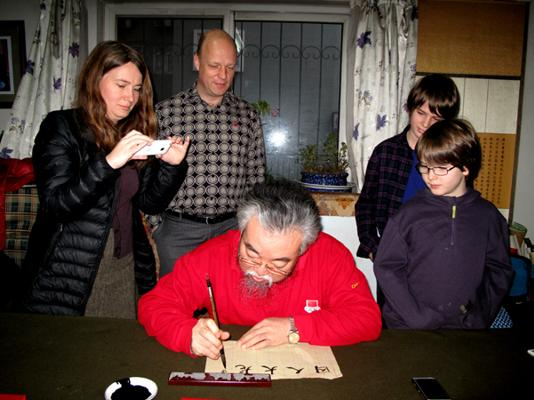person: (138, 178, 383, 363)
